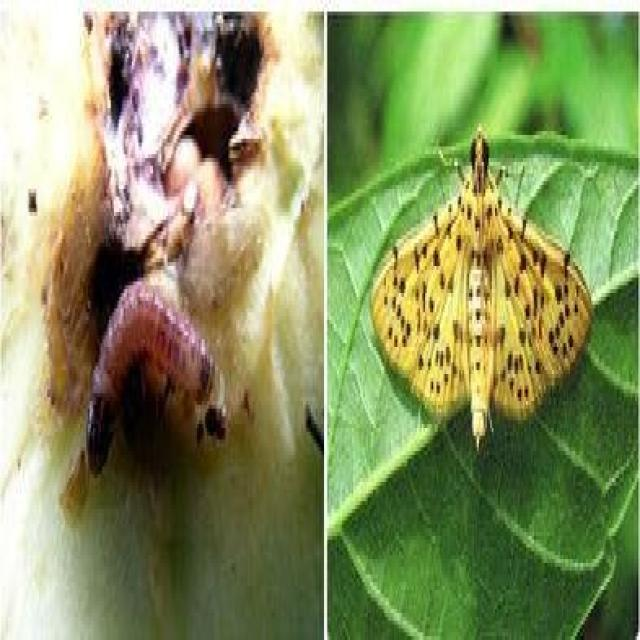peach borer: (370, 127, 599, 447), (78, 281, 224, 439)
